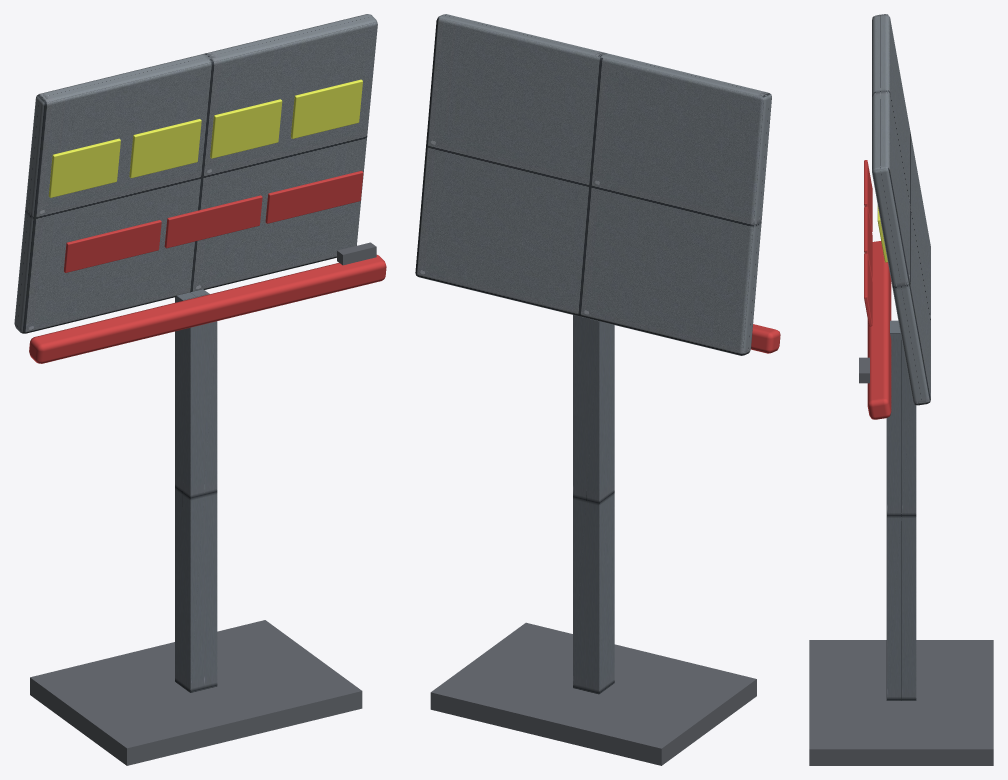
File: fire-and-emergency-services-incident-command-board-f7517da7__29931.glb
3 renders of one model, left to right at view 1: azimuth 30°, elevation 25°; view 2: azimuth 150°, elevation 25°; view 3: azimuth 270°, elevation 25°, orthographic. The views are drawn at different scales.
Visible parts, largest first — view 1: incident-command-board; view 2: incident-command-board; view 3: incident-command-board.
Boxes of the visible parts, x1=… form: incident-command-board: x1=14, y1=14, x2=386, y2=765; incident-command-board: x1=415, y1=14, x2=780, y2=765; incident-command-board: x1=809, y1=14, x2=993, y2=765.
Size of the model in its own units: 1.04 by 1.86 by 0.5.
Materials: 5 (2 with a texture image).
